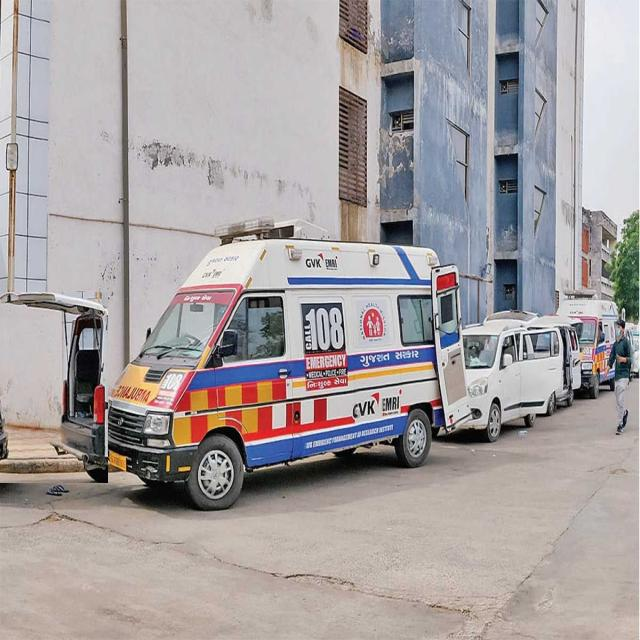car: (462, 312, 562, 441), (530, 315, 581, 406)
emergency: (101, 218, 470, 510), (0, 292, 108, 483)
truck: (558, 300, 619, 398)
